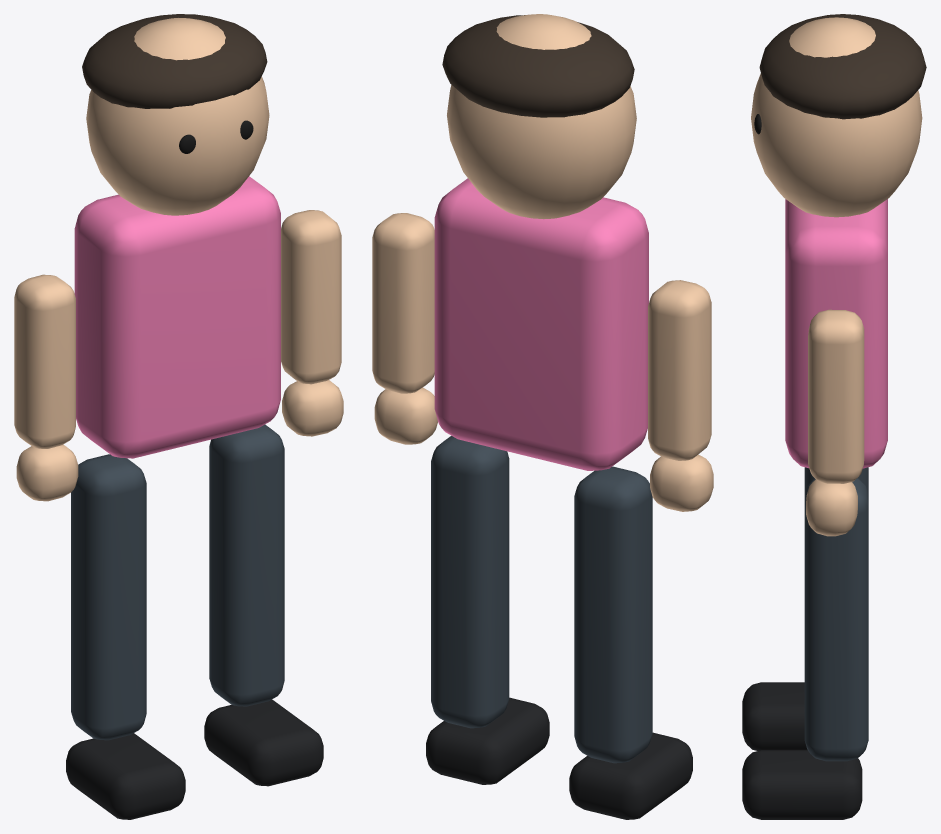
The model's file is cartoon_citizen_female.glb.
3 views of the same model, side by side, from view 1: azimuth 30°, elevation 25°; view 2: azimuth 150°, elevation 25°; view 3: azimuth 270°, elevation 25° (orthographic). The views are drawn at different scales.
Parts seen in each view (by area): view 1: citizen_female_torso, citizen_female_leg_L, citizen_female_leg_R, citizen_female_head, citizen_female_hair_cap, citizen_female_upper_arm_L, citizen_female_upper_arm_R, citizen_female_foot_mesh_R, citizen_female_foot_mesh_L, citizen_female_hand_L.001, citizen_female_hand_R.001; view 2: citizen_female_torso, citizen_female_leg_L, citizen_female_leg_R, citizen_female_head, citizen_female_hair_cap, citizen_female_upper_arm_L, citizen_female_upper_arm_R, citizen_female_foot_mesh_L, citizen_female_foot_mesh_R, citizen_female_hand_L.001, citizen_female_hand_R.001; view 3: citizen_female_head, citizen_female_torso, citizen_female_leg_R, citizen_female_hair_cap, citizen_female_upper_arm_R, citizen_female_foot_mesh_R, citizen_female_foot_mesh_L, citizen_female_hand_R.001.
Part boxes in pixels (box(x1,y1,x2,y2)): citizen_female_torso: box(74, 176, 280, 458); citizen_female_leg_L: box(71, 454, 146, 740); citizen_female_leg_R: box(209, 424, 284, 706); citizen_female_head: box(86, 18, 269, 215); citizen_female_hair_cap: box(82, 14, 267, 108); citizen_female_upper_arm_L: box(14, 274, 75, 448); citizen_female_upper_arm_R: box(281, 210, 341, 384); citizen_female_foot_mesh_R: box(204, 699, 323, 786); citizen_female_foot_mesh_L: box(66, 733, 185, 819); citizen_female_hand_L.001: box(16, 444, 78, 501); citizen_female_hand_R.001: box(282, 380, 343, 436); citizen_female_torso: box(434, 178, 648, 470); citizen_female_leg_L: box(574, 466, 652, 763); citizen_female_leg_R: box(431, 436, 509, 728); citizen_female_head: box(447, 14, 636, 219); citizen_female_hair_cap: box(442, 15, 634, 117); citizen_female_upper_arm_L: box(648, 280, 711, 460); citizen_female_upper_arm_R: box(372, 213, 434, 393); citizen_female_foot_mesh_L: box(569, 732, 692, 819); citizen_female_foot_mesh_R: box(426, 697, 549, 784); citizen_female_hand_L.001: box(650, 454, 713, 511); citizen_female_hand_R.001: box(374, 387, 437, 444); citizen_female_head: box(751, 17, 922, 217); citizen_female_torso: box(785, 199, 887, 468); citizen_female_leg_R: box(804, 478, 868, 761); citizen_female_hair_cap: box(759, 14, 926, 119); citizen_female_upper_arm_R: box(808, 309, 864, 483); citizen_female_foot_mesh_R: box(742, 750, 862, 819); citizen_female_foot_mesh_L: box(742, 682, 807, 750); citizen_female_hand_R.001: box(806, 479, 857, 536).
Size of the model in its own units: 0.8599 by 1.93 by 0.43.
